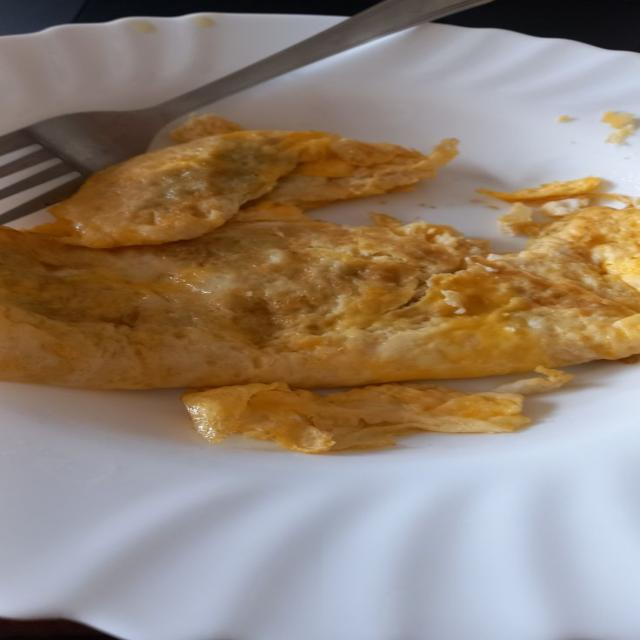omelette: (0, 118, 639, 452), (0, 207, 639, 388), (37, 117, 457, 248), (183, 367, 572, 453)
